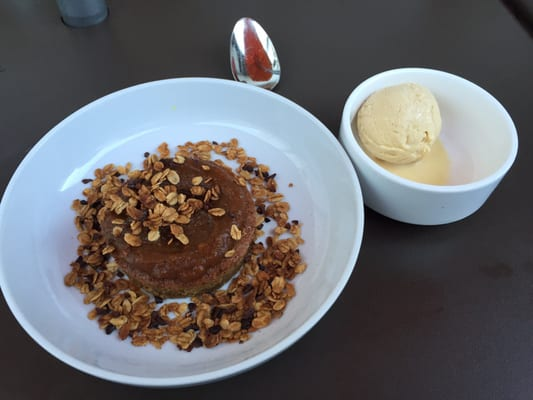salad: (229, 17, 282, 91)
sushi: (2, 73, 365, 384), (338, 67, 519, 226)
